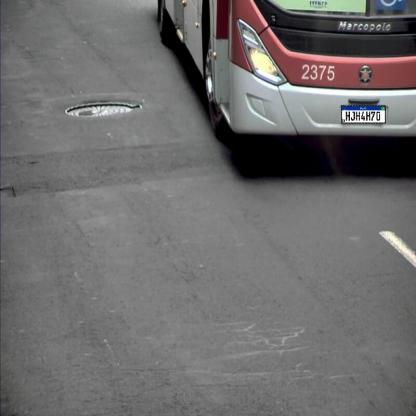PlacaM: (341, 106, 386, 124)
